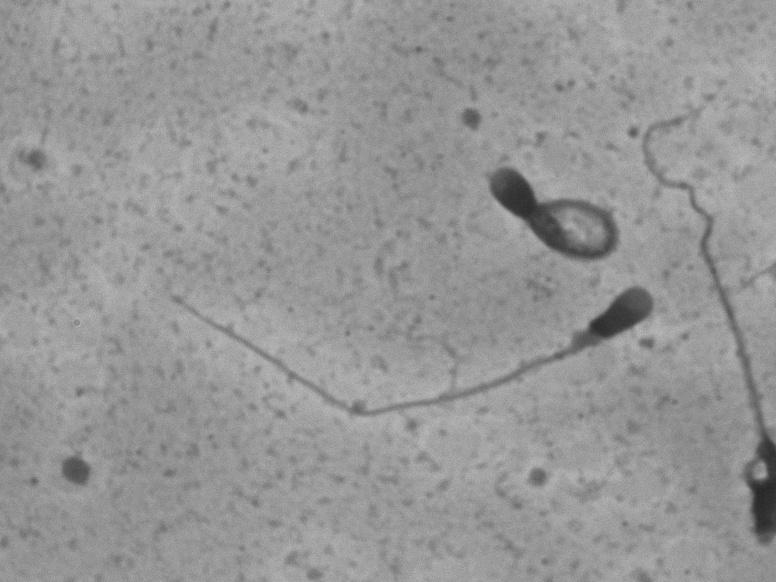Abnormal: (185, 272, 663, 477), (478, 144, 620, 273)
